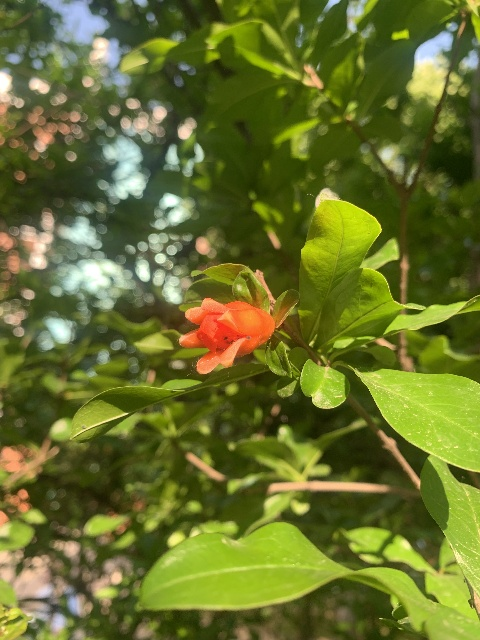flower: (179, 297, 273, 374)
